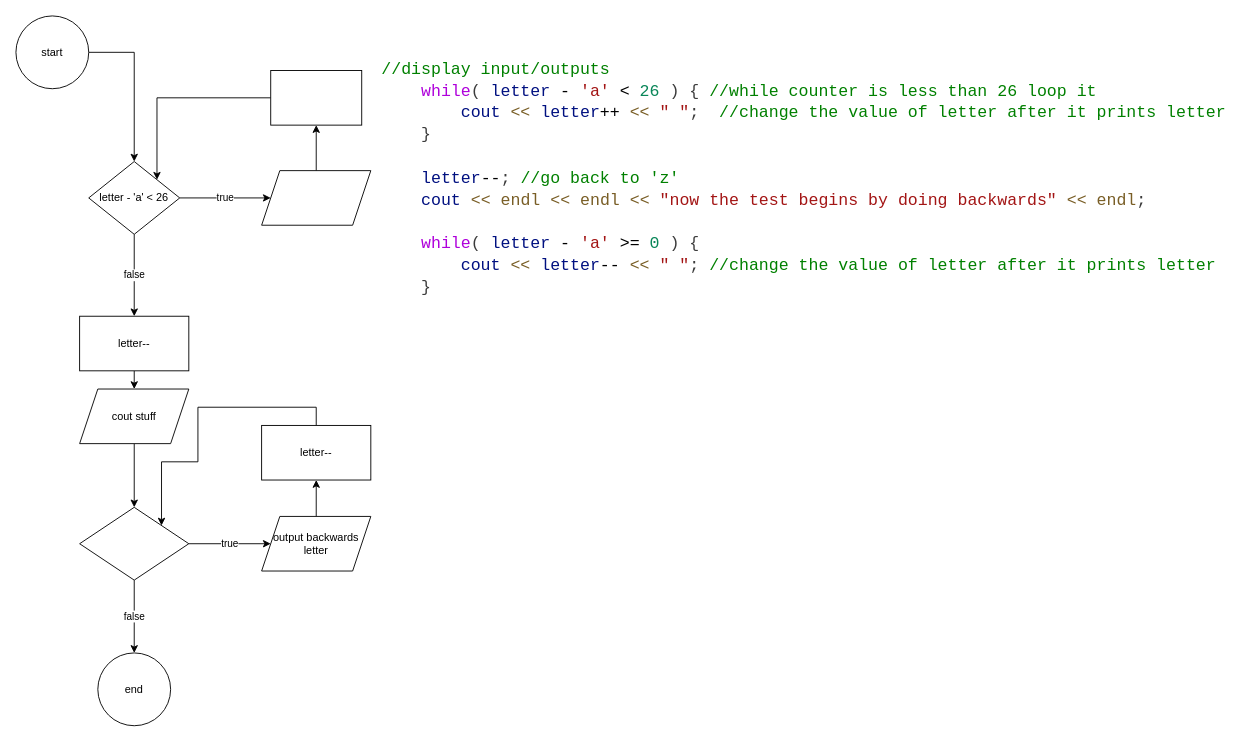
This 1242x742 diagram has some shape labels left out. The shapes that lost their labels are listed below. From the top down, each one's centre as x and y in pixels, then its label:
At point 316,97: "letter++".
At point 316,197: "output letter".
At point 134,543: "letter - 'a' >= 0".
